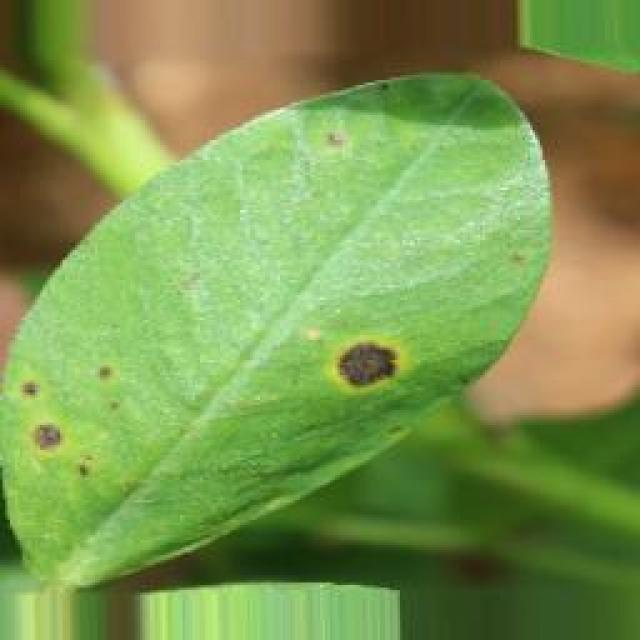Sigatoka: (5, 328, 137, 487), (310, 314, 402, 414), (472, 218, 536, 314), (299, 104, 369, 179)
